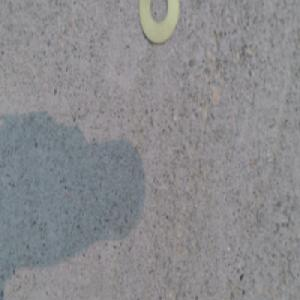Washer: (138, 0, 179, 47)
